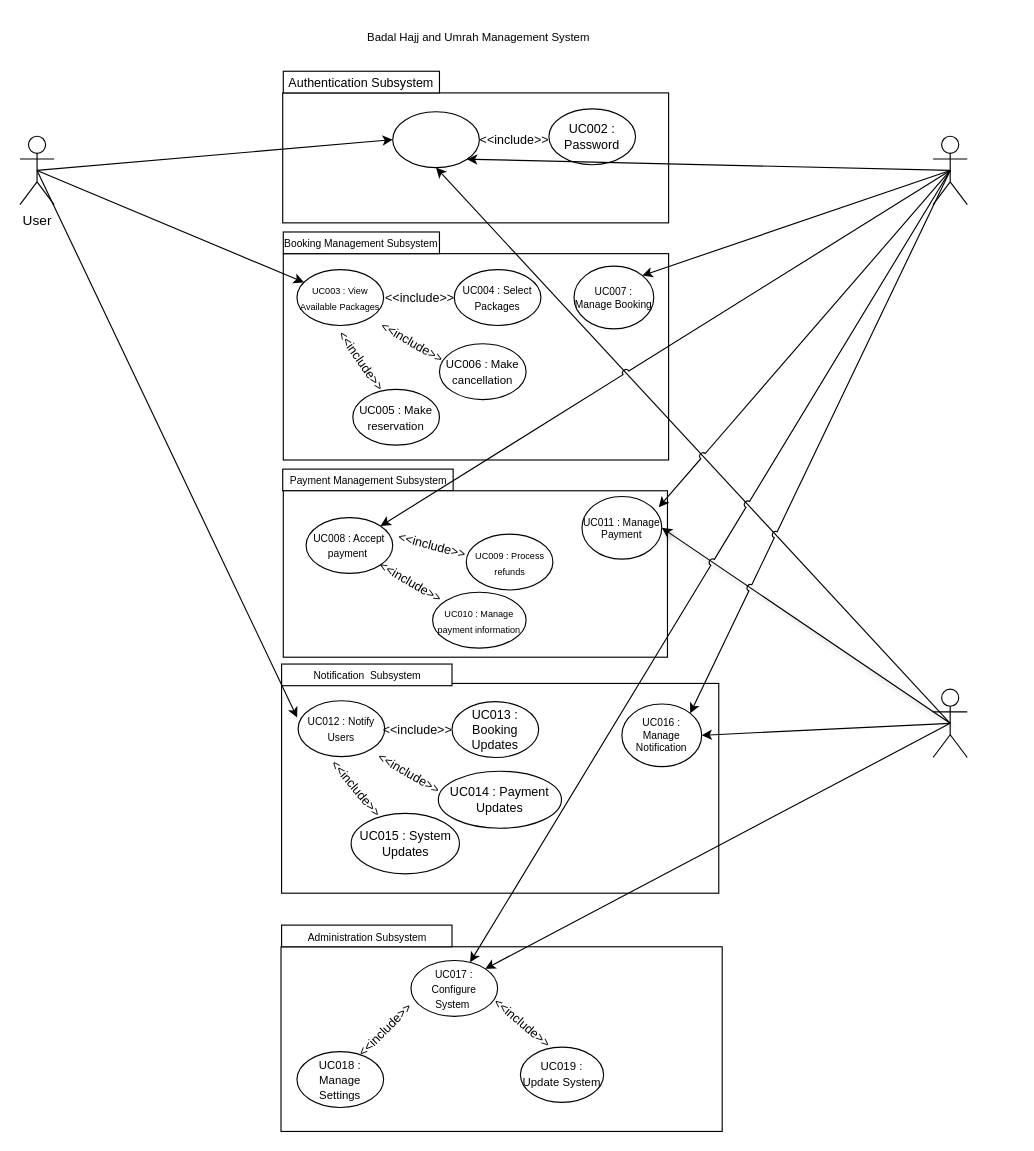
This 1034x1151 diagram has some shape labels left out. The centre of each missing label's shape, as x and y in pixels:
System Administrator: (949,170)
Top Management: (949,723)
UC001 : Sign up / Log in: (435,139)
